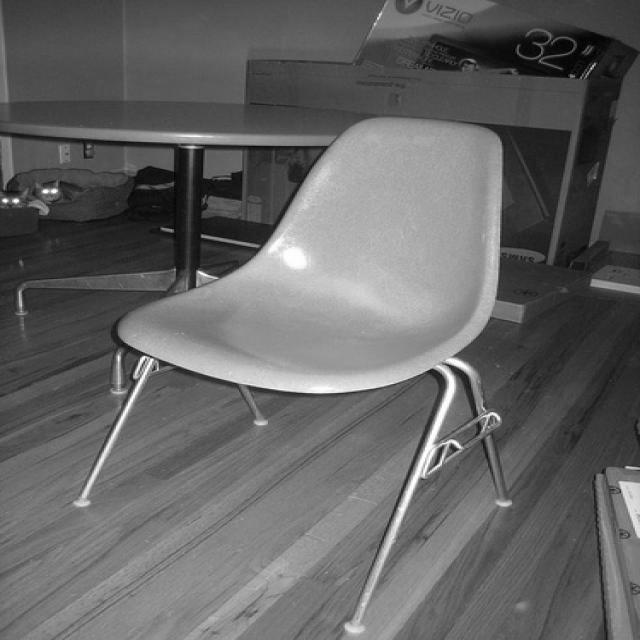chair: (76, 114, 518, 632)
table: (0, 102, 372, 396)
